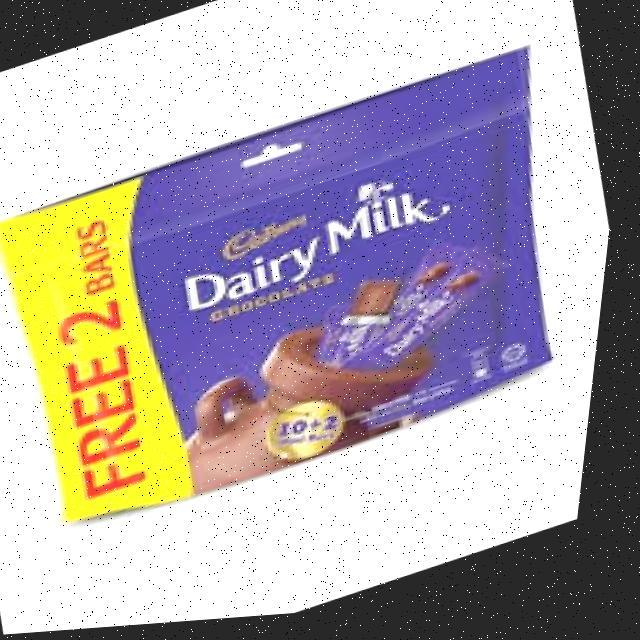cadbury_chocolate: (72, 52, 545, 530)
